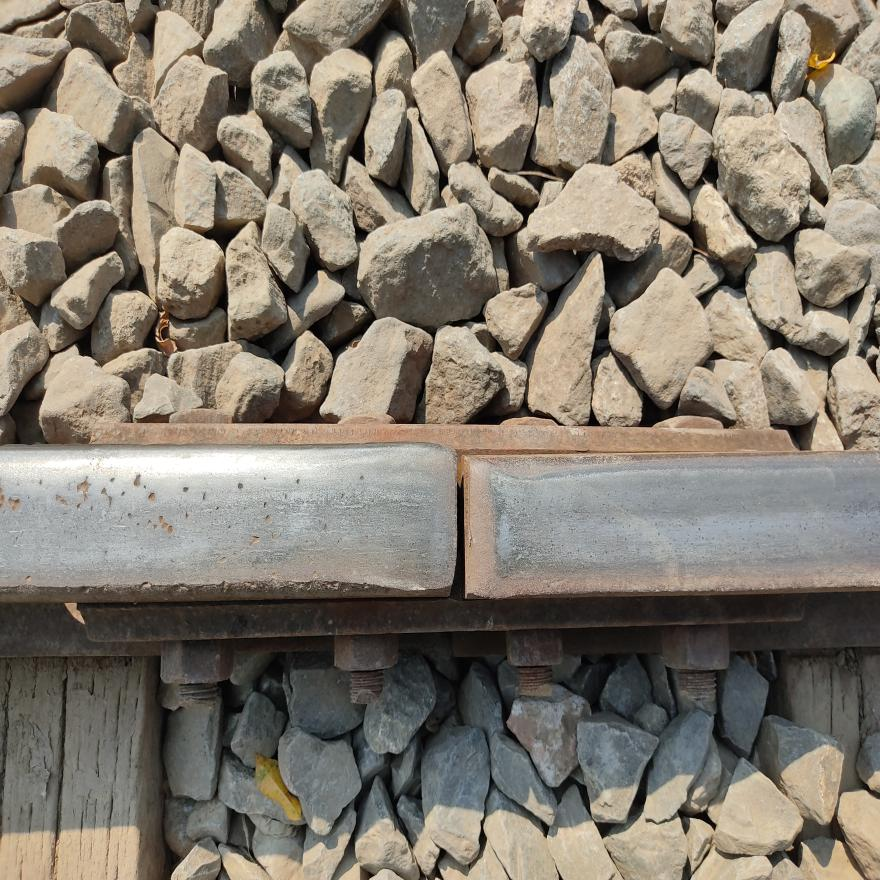railway-gap: (334, 342, 589, 701)
